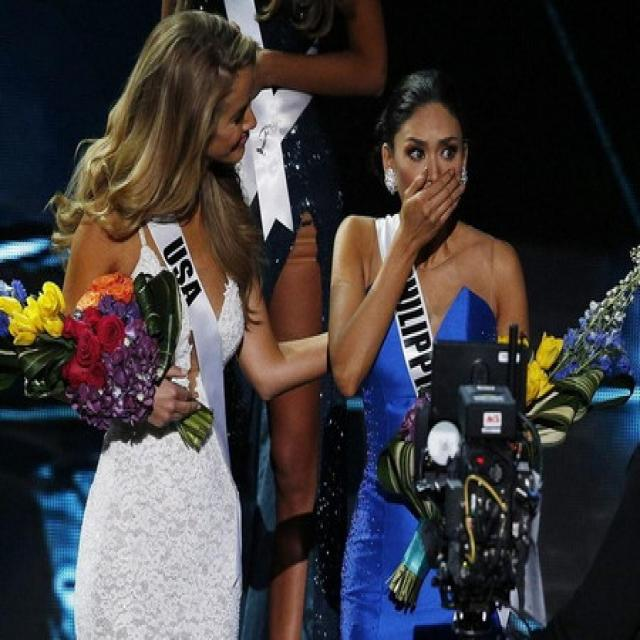nomask: (391, 106, 465, 209), (188, 65, 256, 160)
